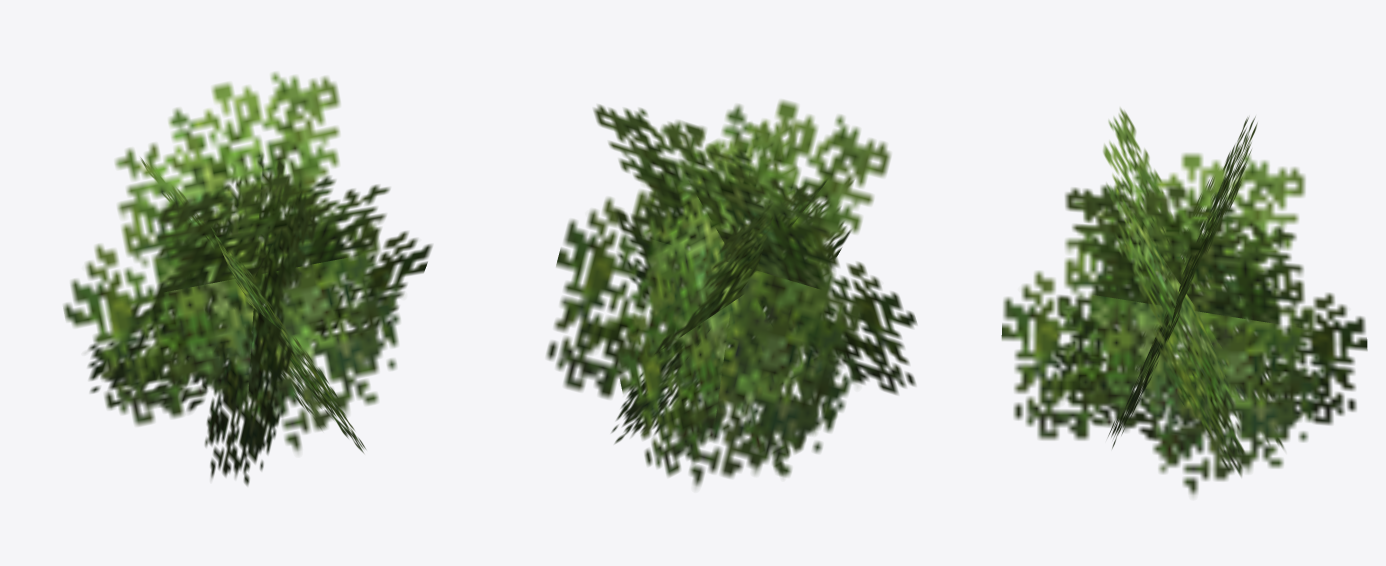
Rendered from plant-12.glb.
3 views of the same model, side by side, from view 1: azimuth 30°, elevation 25°; view 2: azimuth 150°, elevation 25°; view 3: azimuth 270°, elevation 25° (orthographic). The views are drawn at different scales.
Parts seen in each view (by area): view 1: bush_sm_1; view 2: bush_sm_1; view 3: bush_sm_1.
Part boxes in pixels (x1=…): bush_sm_1: x1=63, y1=72, x2=432, y2=485; bush_sm_1: x1=546, y1=100, x2=916, y2=487; bush_sm_1: x1=1001, y1=107, x2=1367, y2=496.
Size of the model in its own units: 2.82 by 2.97 by 2.55.
Materials: 1 (1 with a texture image).
